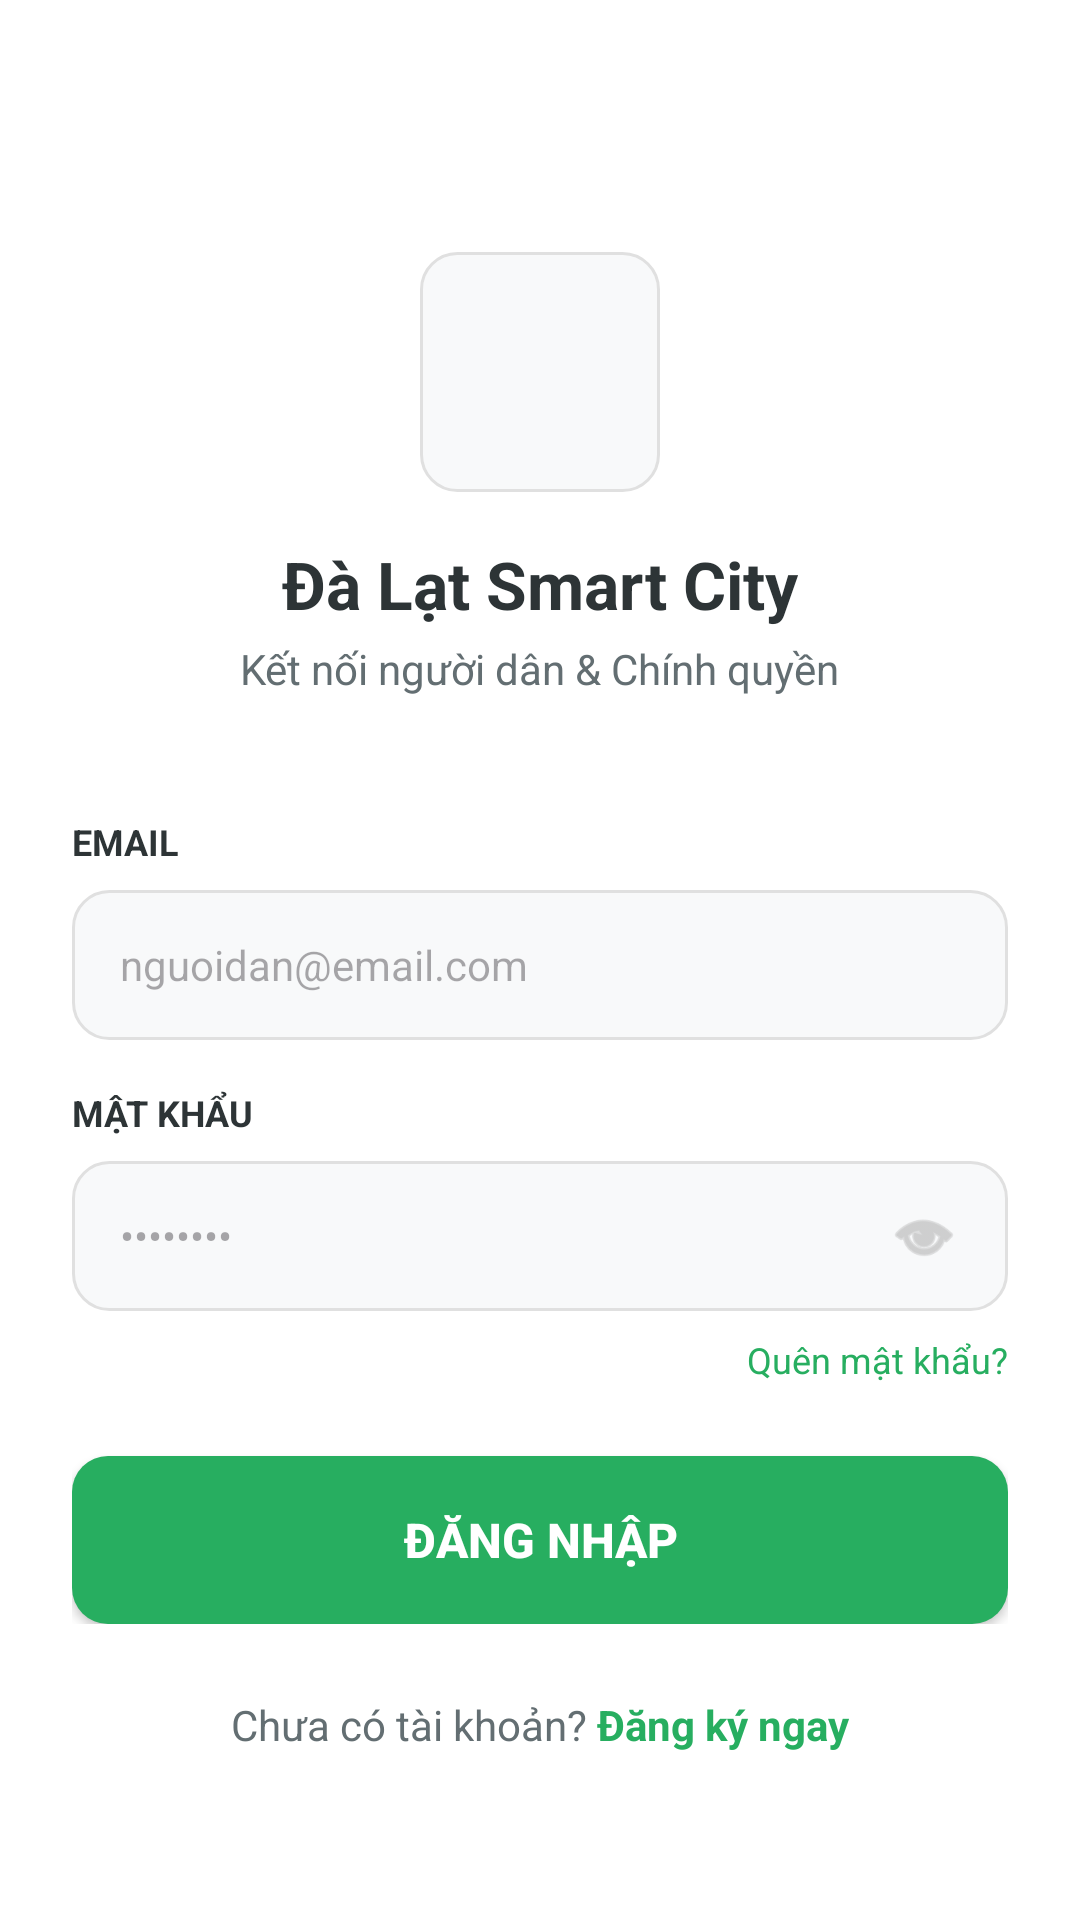

Point at icon controls on the screen. Image size 1080w x 1920h, points as [x,y].
view: [924,1238]
